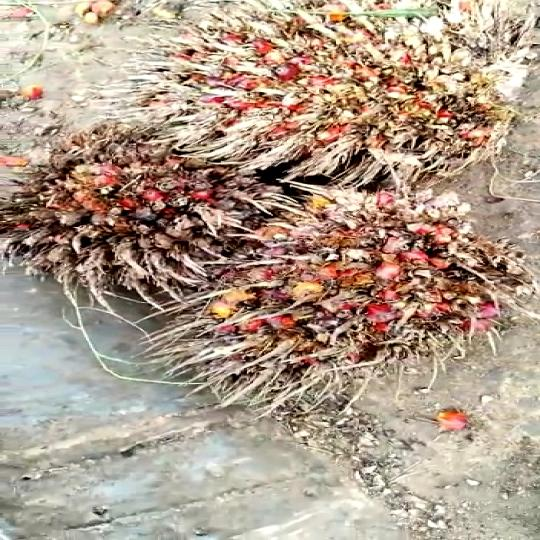terlalu masak: (142, 180, 540, 422), (105, 21, 540, 178), (0, 133, 305, 286)
